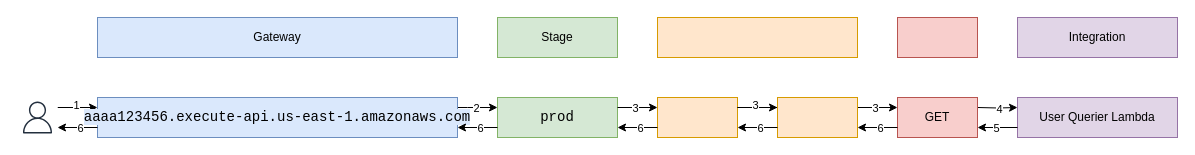
Image size: 1195x155. Some labels were removed from this diagram. The shapes that lost their labels are listed below. From the top down, each one's centre as x and y in pixels, then its label:
point (757, 37): resource
point (937, 37): method
point (697, 117): user
point (817, 117): {PROXY+}
